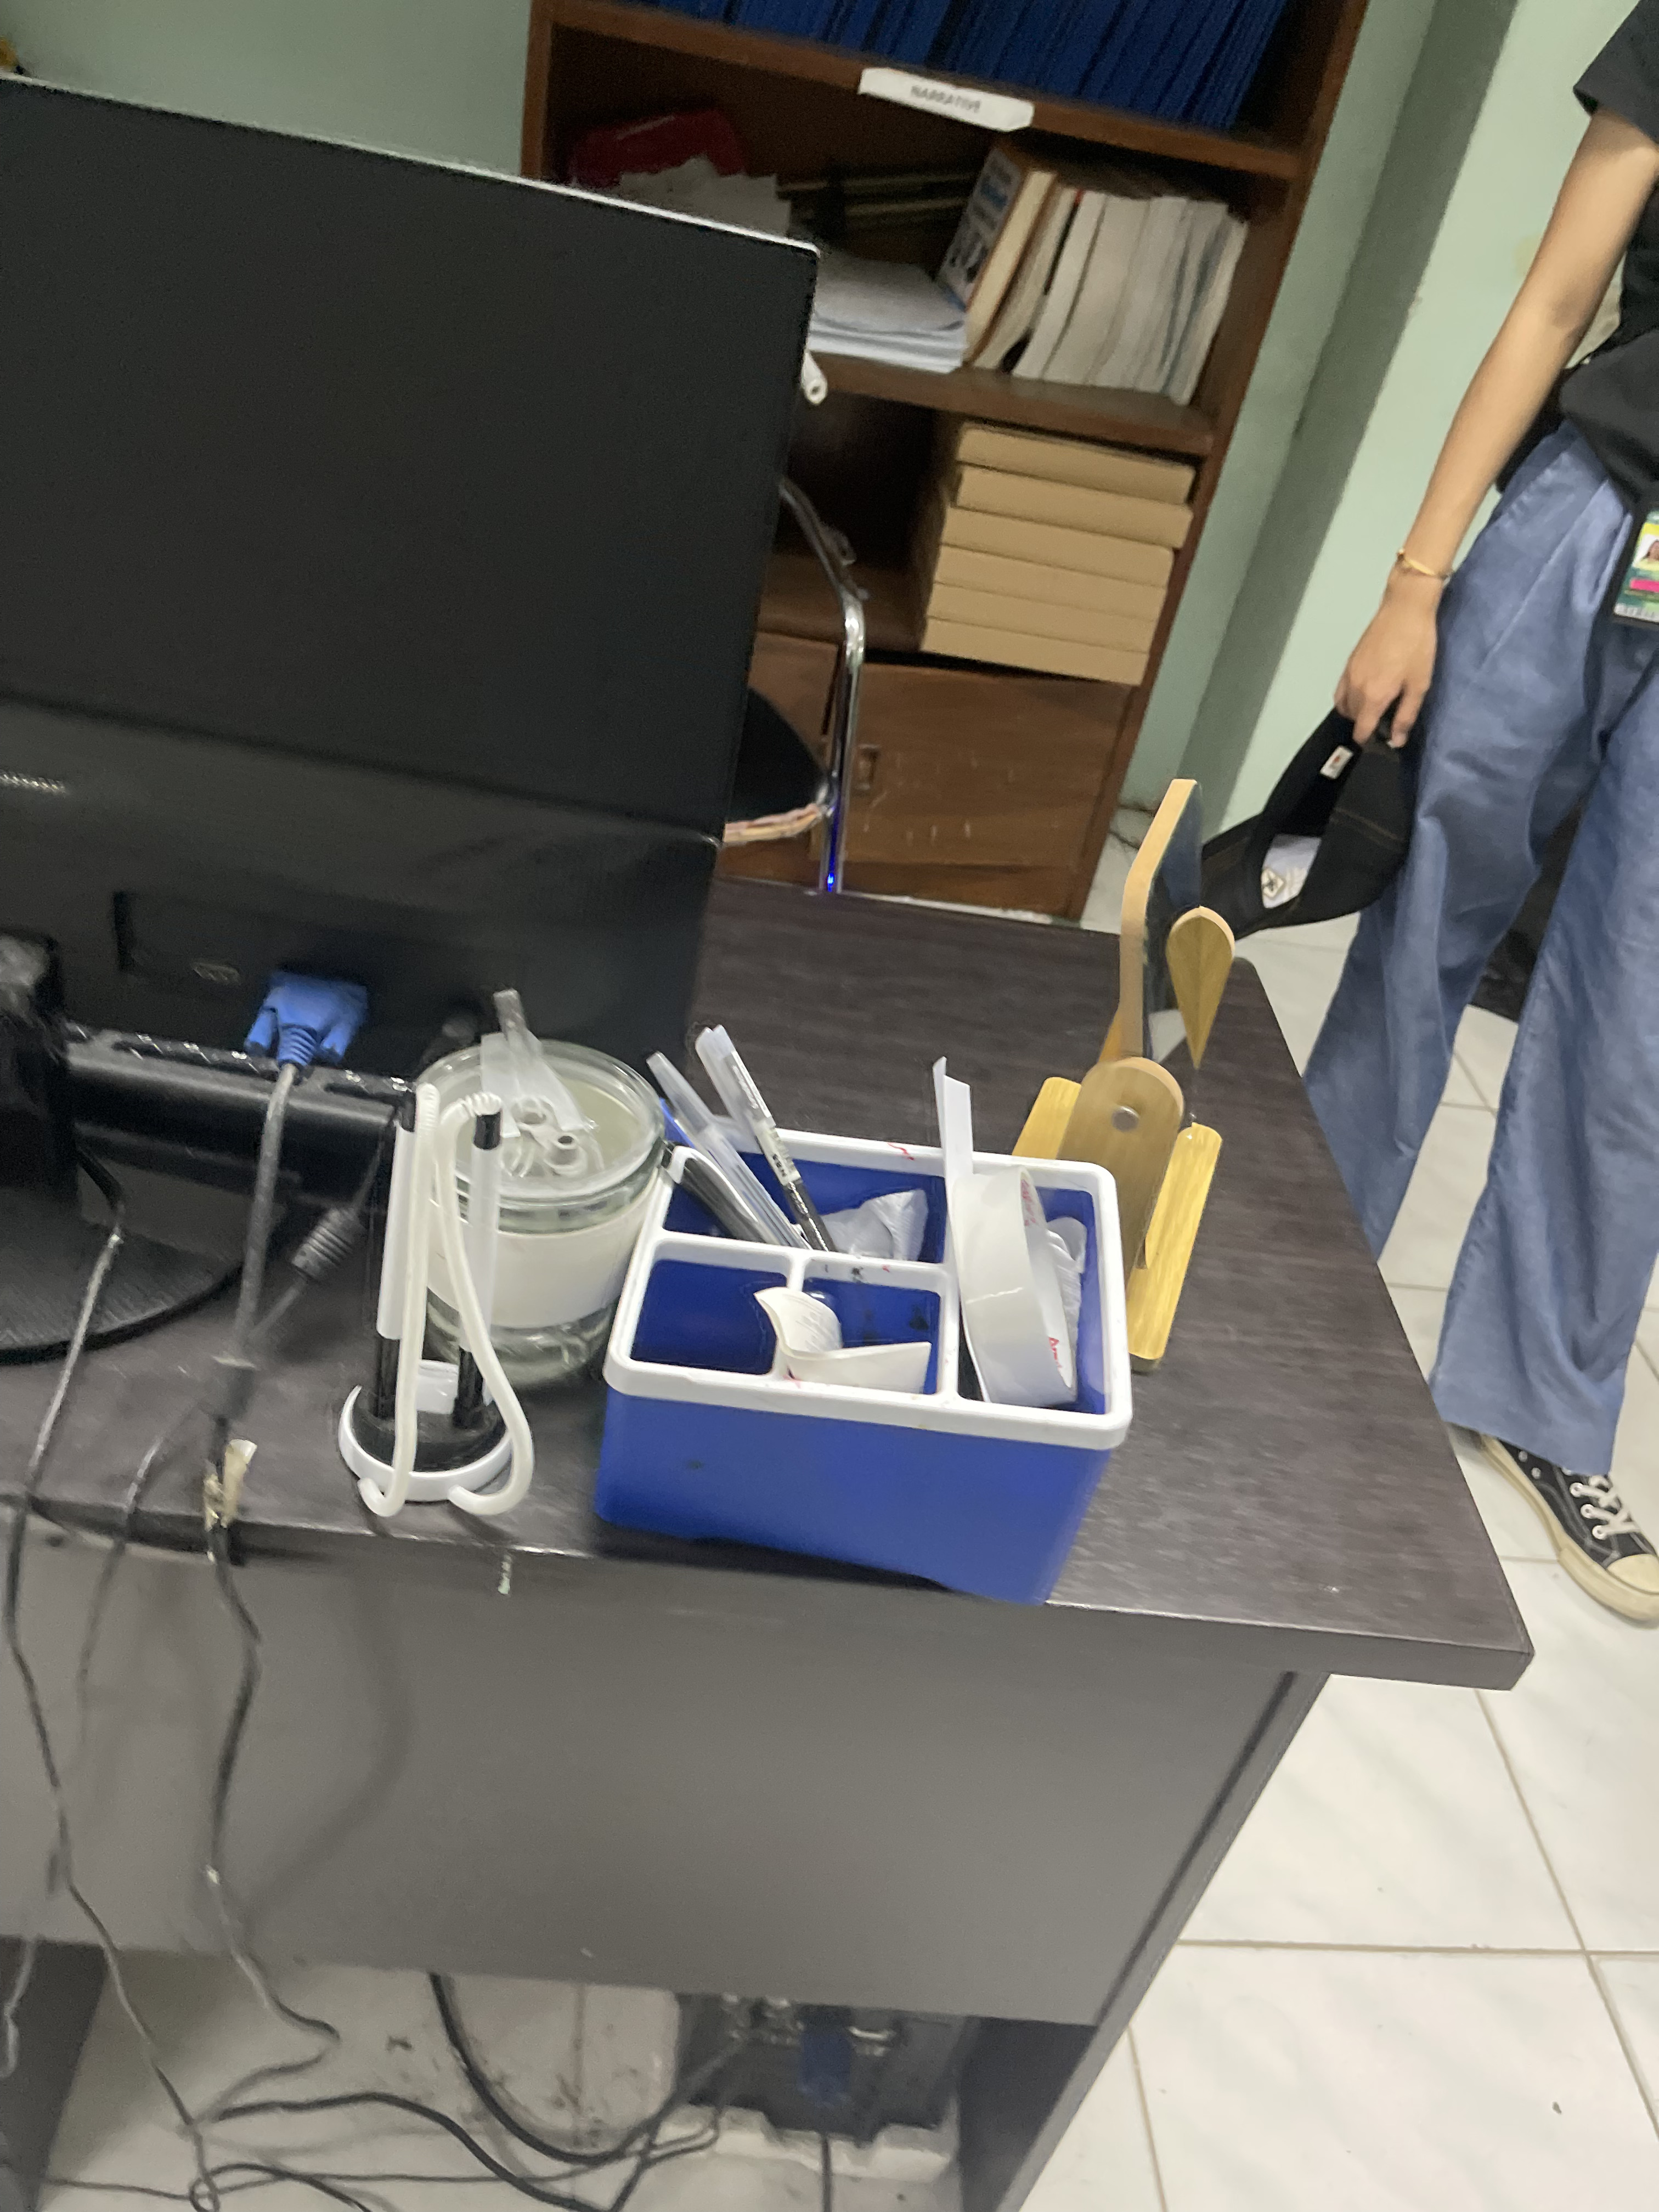table1: (0, 939, 1506, 2212)
